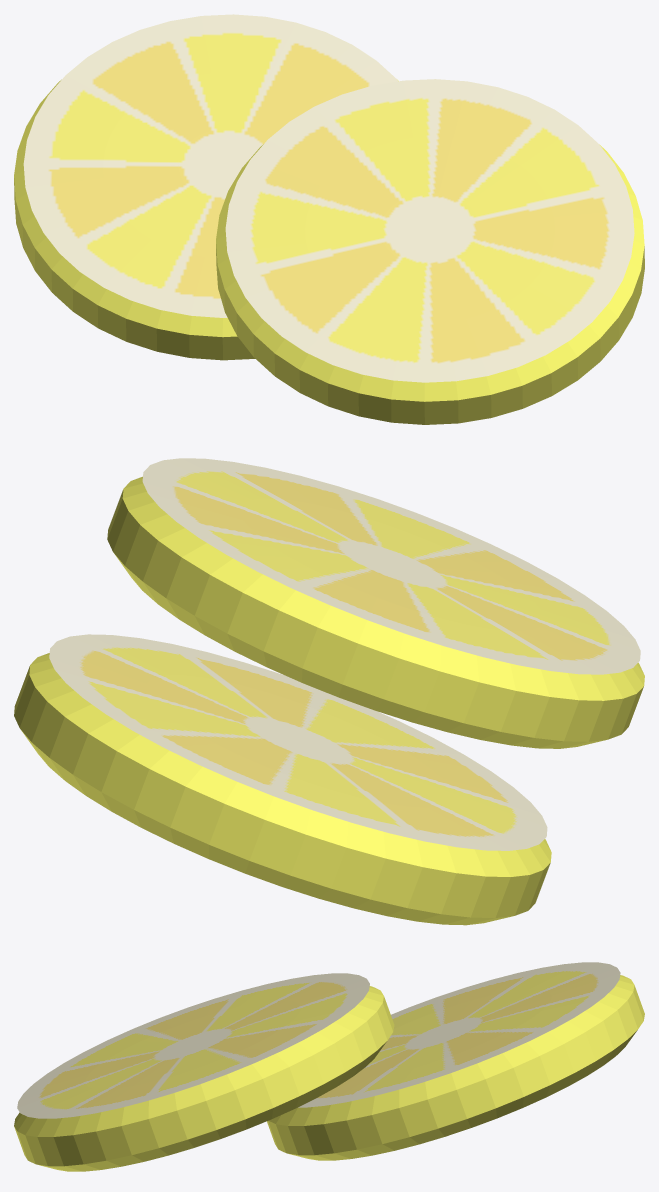
The model's file is lemon.glb.
The picture shows the model from 3 angles, top to bottom: view 1: azimuth 30°, elevation 25°; view 2: azimuth 150°, elevation 25°; view 3: azimuth 270°, elevation 25°; orthographic projection. The views are drawn at different scales.
Bounding box in the file's own units: 1.45 × 0.7095 × 1.99.
2 materials, 1 textured.
